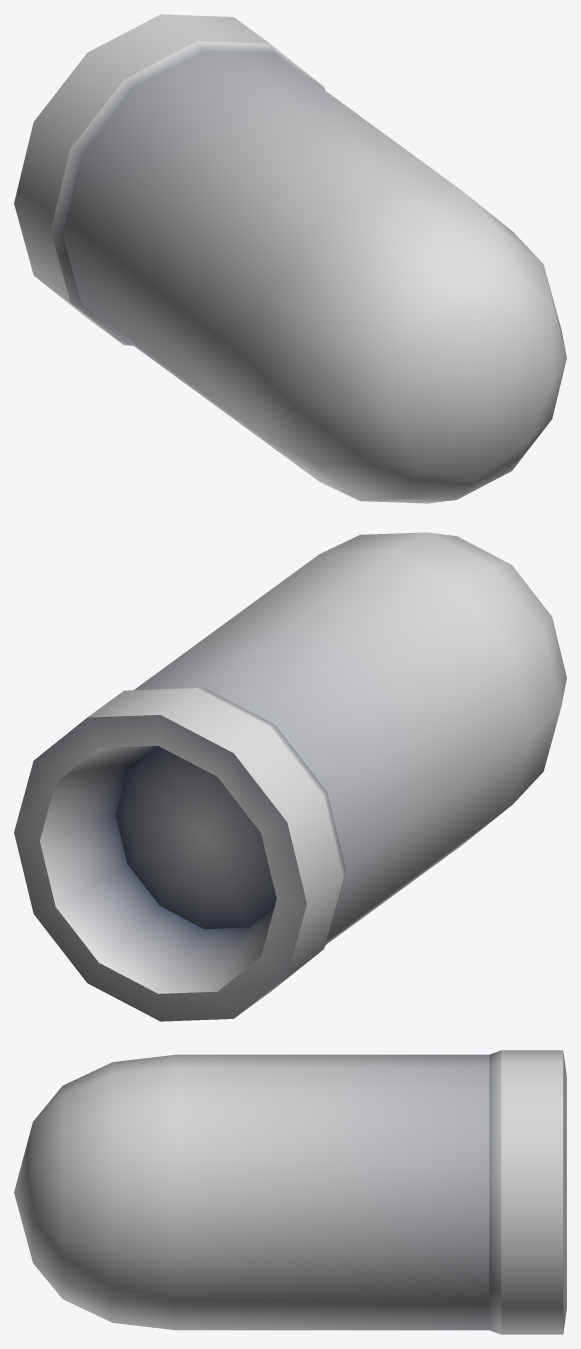
Rendered from Cannonball.gltf.
3 renders of one model, top to bottom at view 1: azimuth 30°, elevation 25°; view 2: azimuth 150°, elevation 25°; view 3: azimuth 270°, elevation 25°, orthographic. The views are drawn at different scales.
Visible parts, largest first — view 1: CannonballMesh; view 2: CannonballMesh; view 3: CannonballMesh.
Part boxes in pixels (bbox=[...]): CannonballMesh: bbox=[14, 14, 566, 503]; CannonballMesh: bbox=[14, 532, 566, 1021]; CannonballMesh: bbox=[14, 1050, 566, 1334].
Bounding box in the file's own units: 0.7718 × 0.7718 × 1.49.
